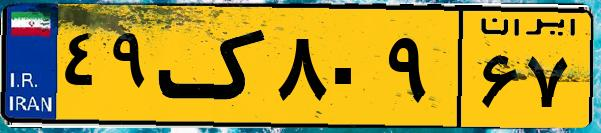0: (330, 28, 385, 110)
4: (57, 26, 110, 100)
6: (475, 38, 525, 113)
7: (525, 38, 570, 115)
8: (270, 28, 330, 110)
9: (385, 28, 445, 110), (110, 28, 158, 98)
ک: (158, 12, 270, 120)
